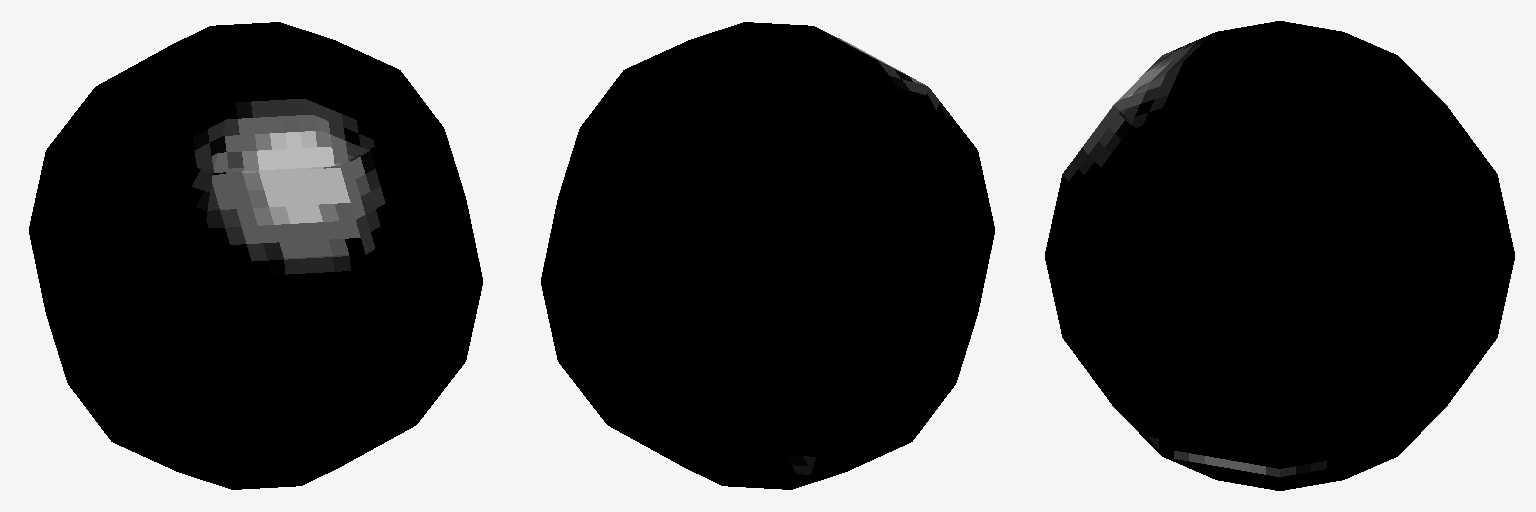
3 views of the same model, side by side, from view 1: azimuth 30°, elevation 25°; view 2: azimuth 150°, elevation 25°; view 3: azimuth 270°, elevation 25° (orthographic).
Visible parts, largest first — view 1: Sphere.001; view 2: Sphere.001; view 3: Sphere.001.
Boxes of the visible parts, <box> form: Sphere.001: <box>29,22,482,489</box>; Sphere.001: <box>541,22,994,489</box>; Sphere.001: <box>1045,21,1514,490</box>.
Size of the model in its own units: 0.8796 by 0.8796 by 0.8796.
1 materials, 1 textured.